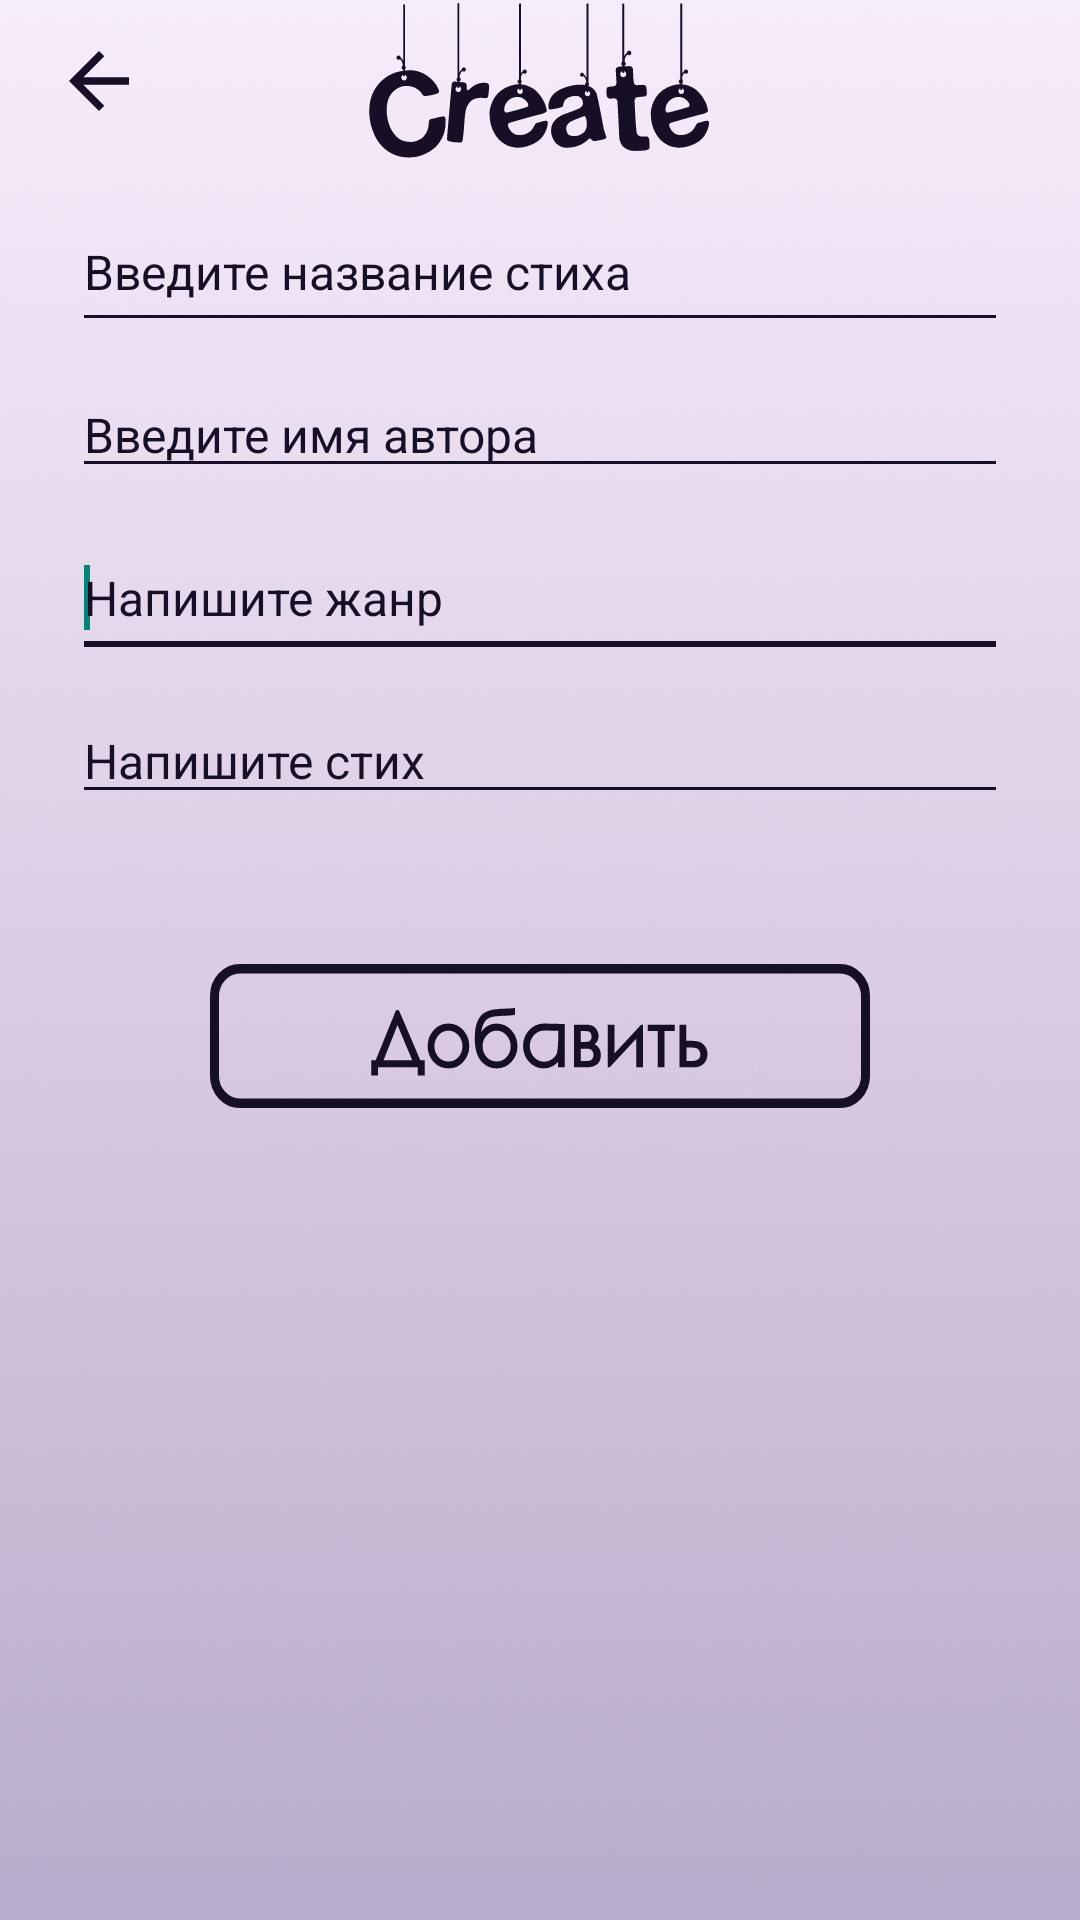

Named icons in this screenshot (1080w x 1920h) and their centers, point (x, y):
back: point (99, 81)
